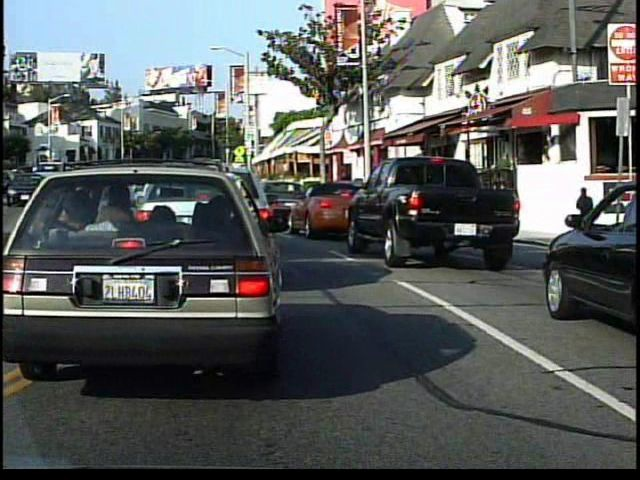person: (490, 149, 515, 201)
